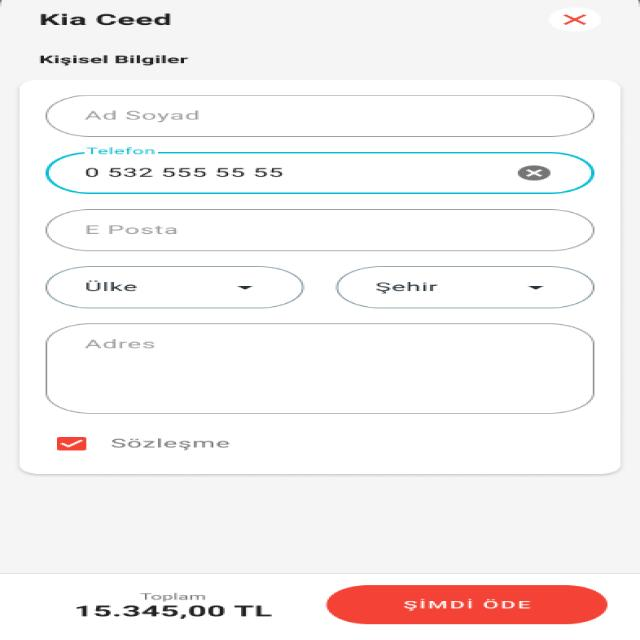QLabel: (75, 604, 270, 618), (34, 52, 191, 67), (34, 11, 175, 26), (392, 597, 536, 611), (137, 592, 206, 602)
VBtn: (328, 584, 616, 625)
VCard: (18, 79, 623, 476)
VCheckbox: (44, 434, 238, 452)
VCombobox: (45, 264, 306, 309), (334, 266, 596, 309)
VFooter: (0, 573, 640, 640)
VIcon: (546, 6, 604, 32)
VTextField: (43, 147, 594, 196), (43, 93, 598, 138), (45, 208, 596, 253)
VTextarea: (42, 320, 599, 416)
